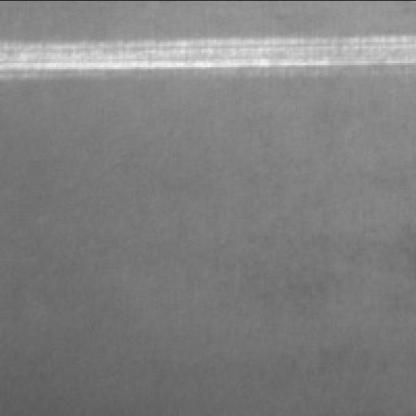scratches: (0, 23, 412, 79)
